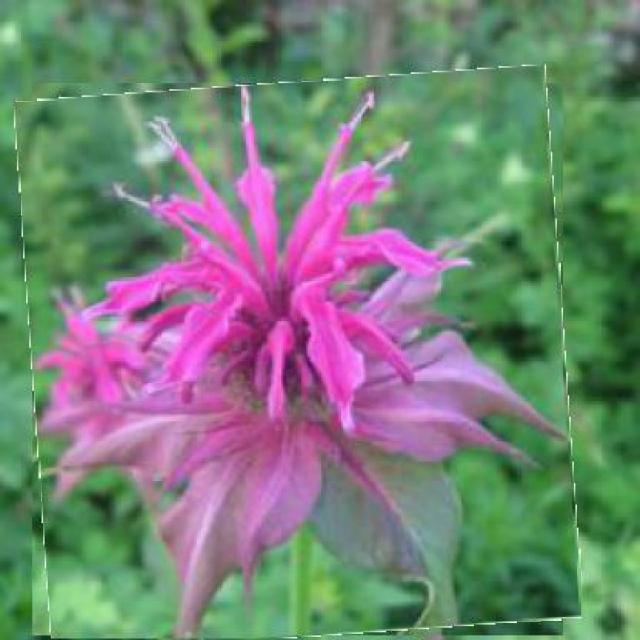Flower: (23, 74, 575, 638)
